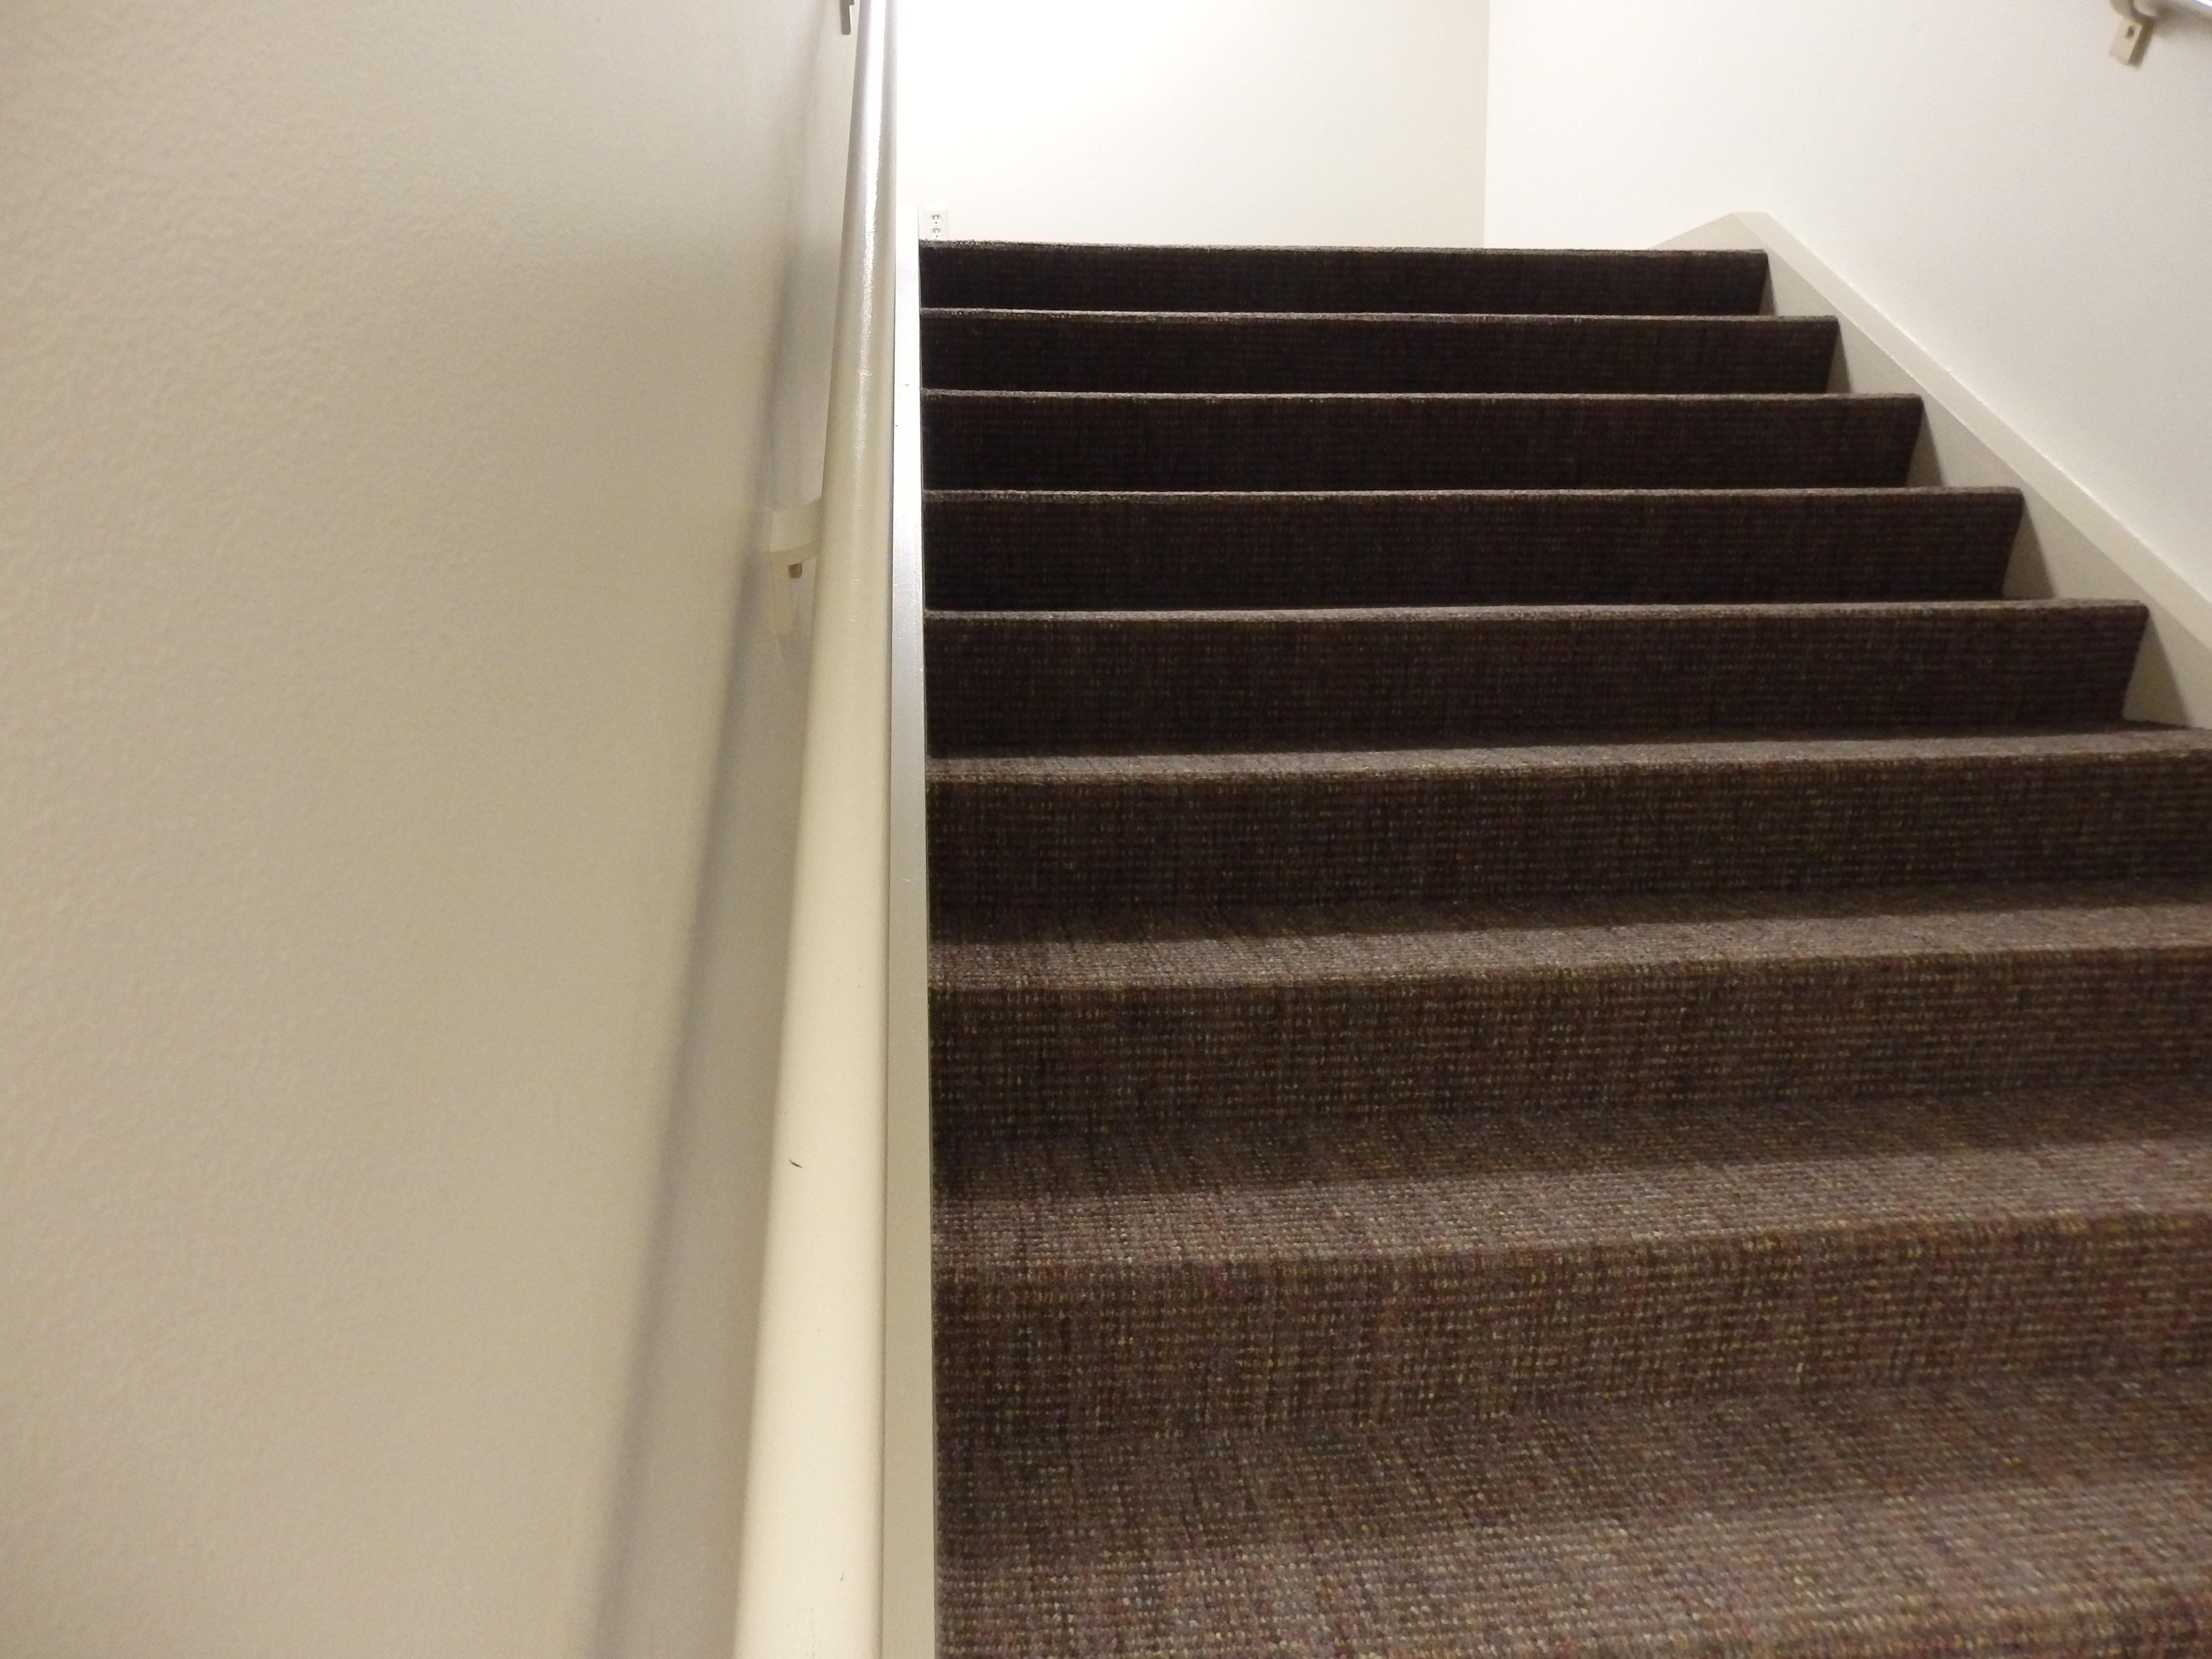stairs_up: (911, 242, 2212, 1570)
